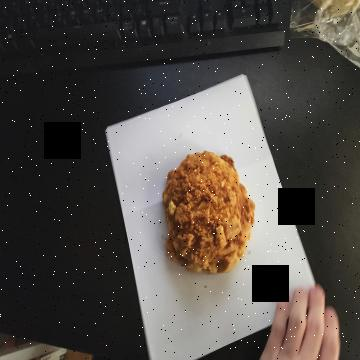soboru_bread: (163, 150, 258, 280)
